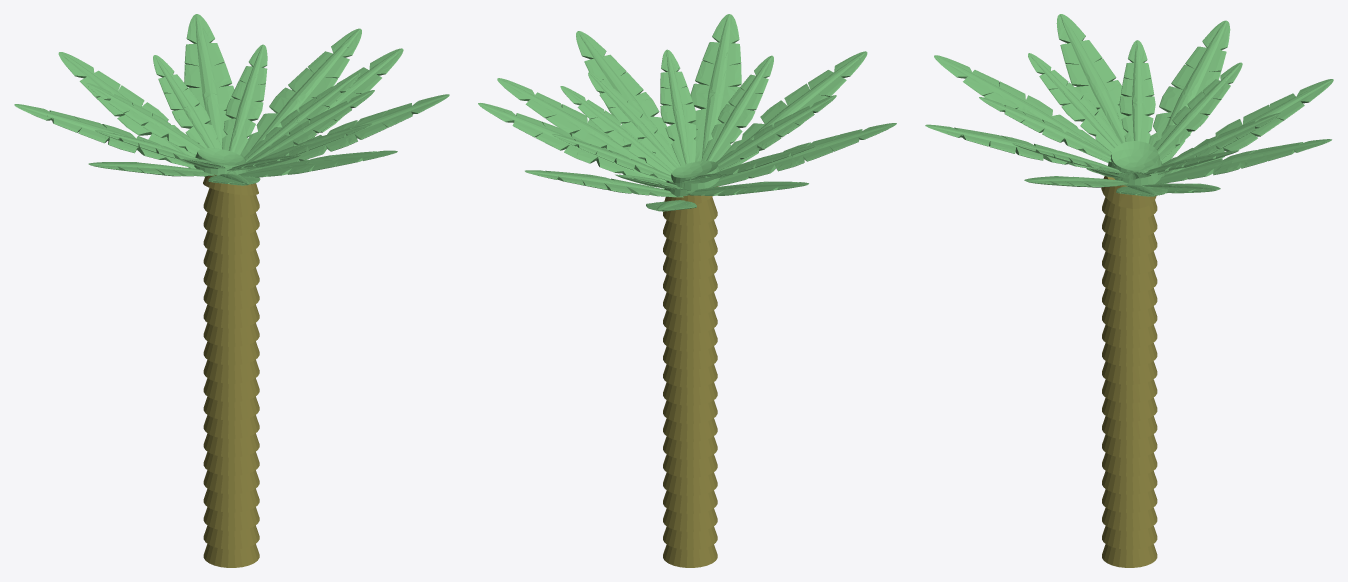
Rendered from Fantabulous Albar.glb.
The picture shows the model from 3 angles, left to right: view 1: azimuth 30°, elevation 25°; view 2: azimuth 150°, elevation 25°; view 3: azimuth 270°, elevation 25°; orthographic projection. The views are drawn at different scales.
Parts seen in each view (by area): view 1: Mesh_Mesh_head_geo.001_lambert2SG.001; view 2: Mesh_Mesh_head_geo.001_lambert2SG.001; view 3: Mesh_Mesh_head_geo.001_lambert2SG.001.
Part boxes in pixels (left/top/right/bottom): Mesh_Mesh_head_geo.001_lambert2SG.001: left=14, top=14, right=449, bottom=567; Mesh_Mesh_head_geo.001_lambert2SG.001: left=478, top=14, right=896, bottom=567; Mesh_Mesh_head_geo.001_lambert2SG.001: left=925, top=14, right=1333, bottom=567.
Size of the model in its own units: 0.096 by 0.118 by 0.0948.
